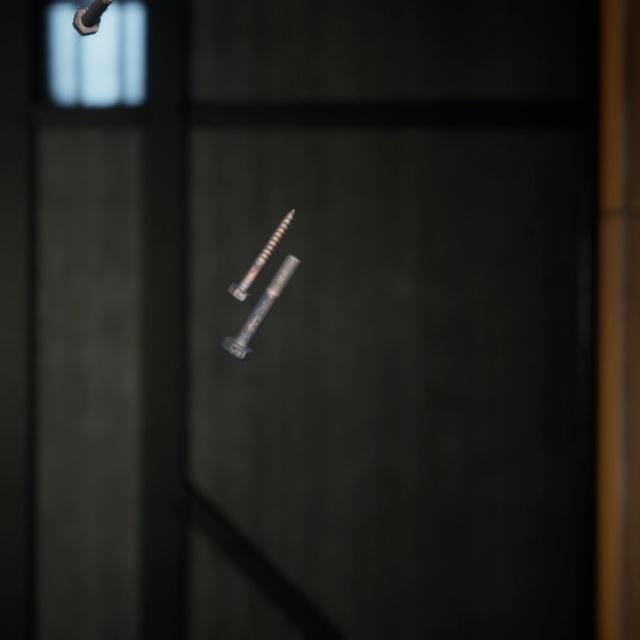bolt: (217, 231, 305, 347), (223, 187, 300, 290), (68, 0, 112, 33)
